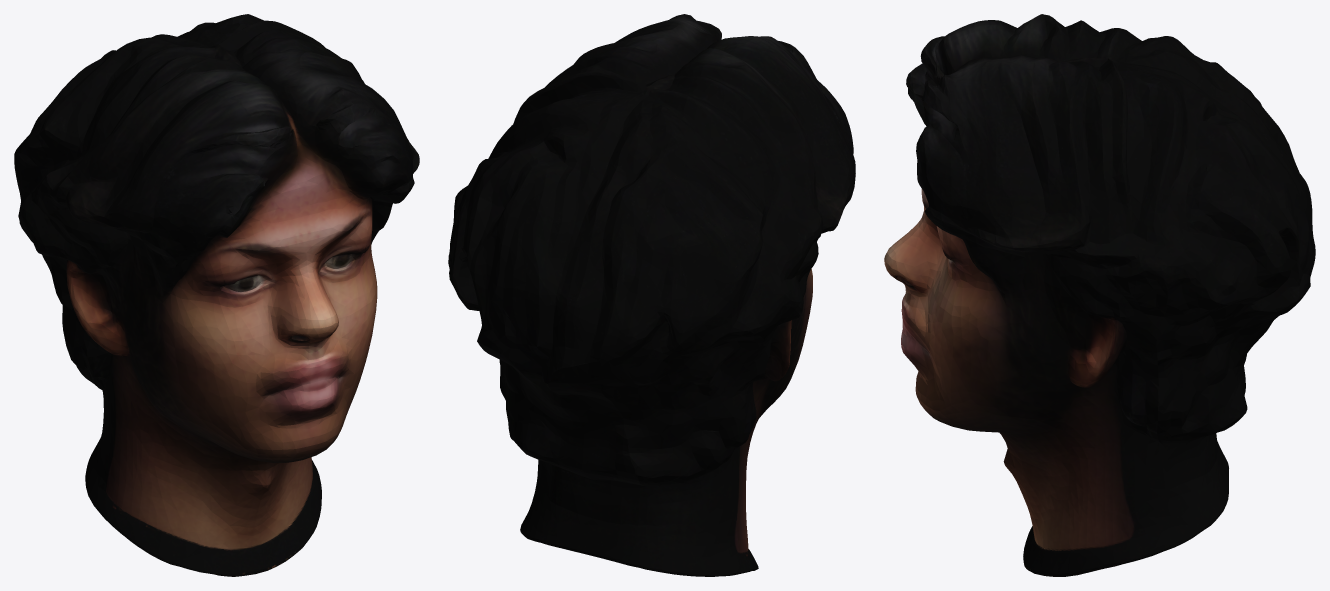
File: adi_head.glb
3 views of the same model, side by side, from view 1: azimuth 30°, elevation 25°; view 2: azimuth 150°, elevation 25°; view 3: azimuth 270°, elevation 25° (orthographic).
Visible parts, largest first — view 1: geometry_0; view 2: geometry_0; view 3: geometry_0.
Boxes of the visible parts, box(x1,y1,x2,y2) form: geometry_0: box(14, 14, 419, 576); geometry_0: box(448, 14, 855, 576); geometry_0: box(884, 14, 1315, 576).
Size of the model in its own units: 0.4726 by 0.6917 by 0.5253.
1 material, 1 textured.
